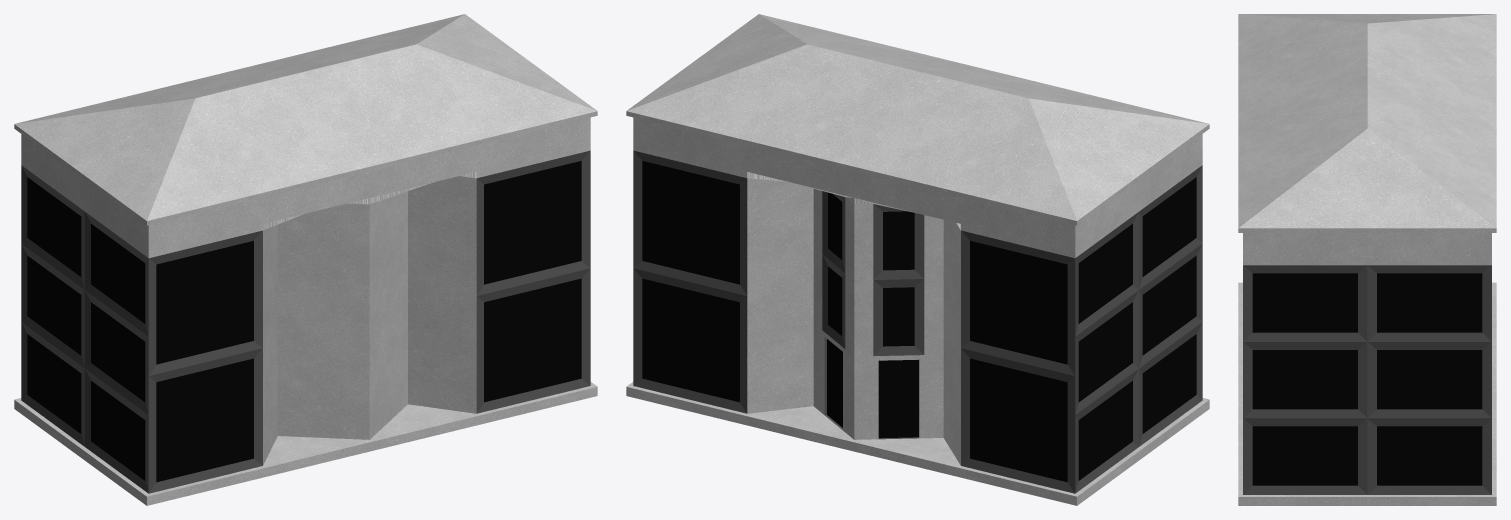
File: BigBuilding.fbx
3 views of the same model, side by side, from view 1: azimuth 30°, elevation 25°; view 2: azimuth 150°, elevation 25°; view 3: azimuth 270°, elevation 25° (orthographic). The views are drawn at different scales.
Visible parts, largest first — view 1: BigBuilding; view 2: BigBuilding; view 3: BigBuilding.
Part boxes in pixels (<box>): BigBuilding: <box>14,14,597,505</box>; BigBuilding: <box>626,14,1209,505</box>; BigBuilding: <box>1238,14,1496,505</box>.
Bounding box in the file's own units: 10.2 × 7.16 × 5.2.
